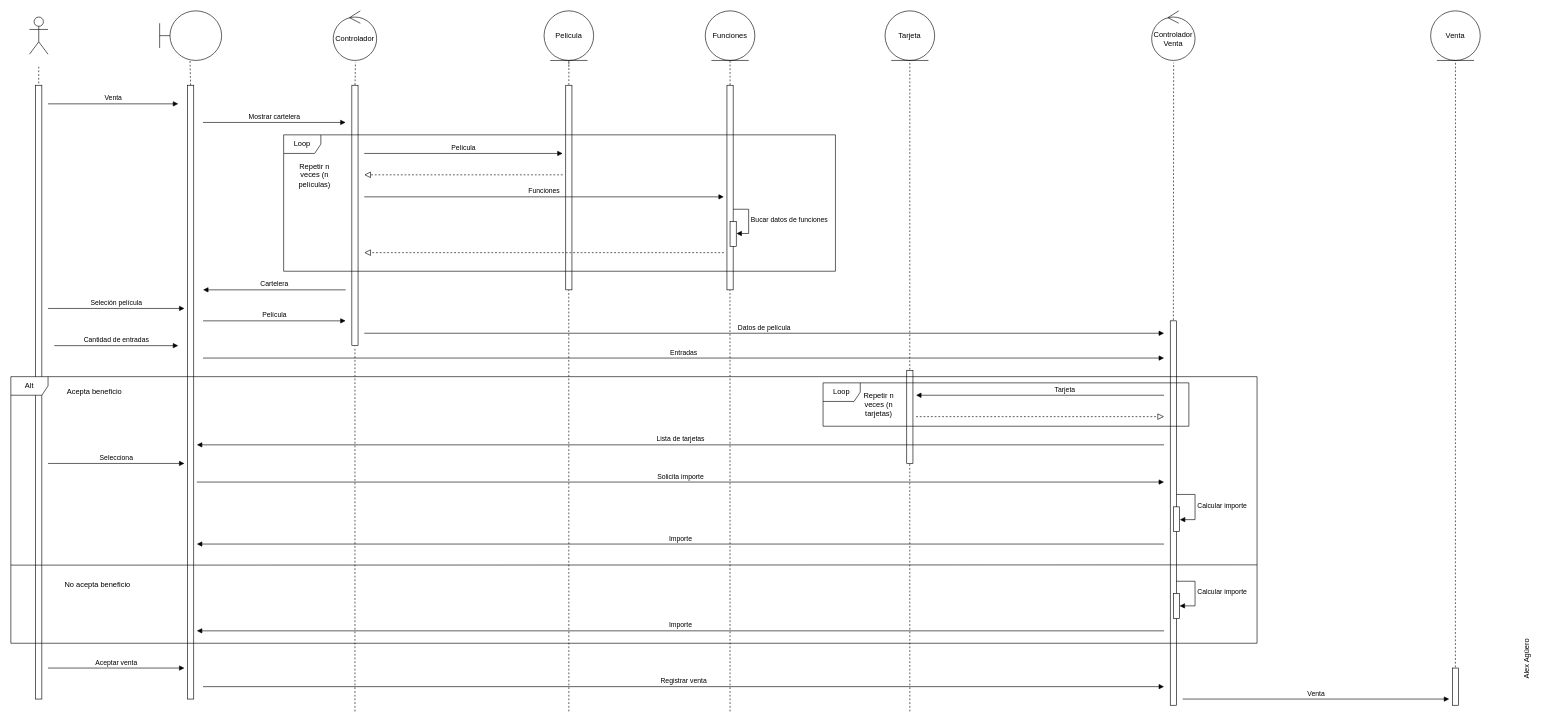
This 1547x723 diagram has some shape labels left out. The shapes that lost their labels are listed below. From the top down, each one's centre as x and y in pixels, then its label:
point 38,35: Actor
point 190,35: Interfaz
